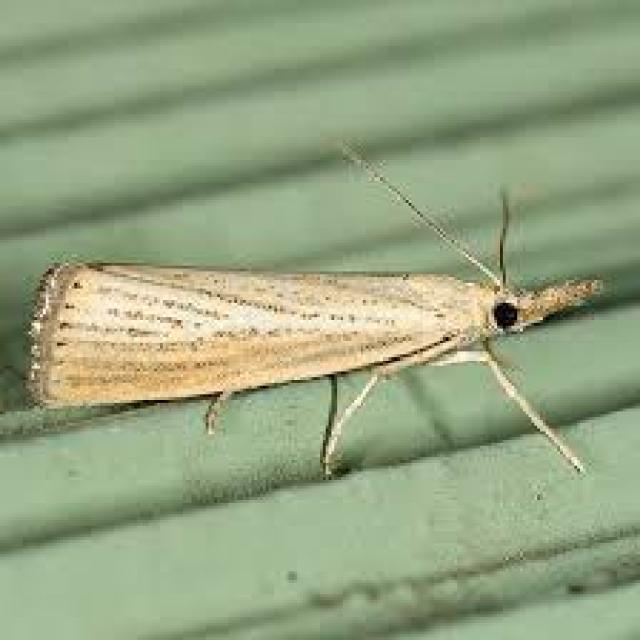yellow-stem-borer: (14, 181, 616, 496)
